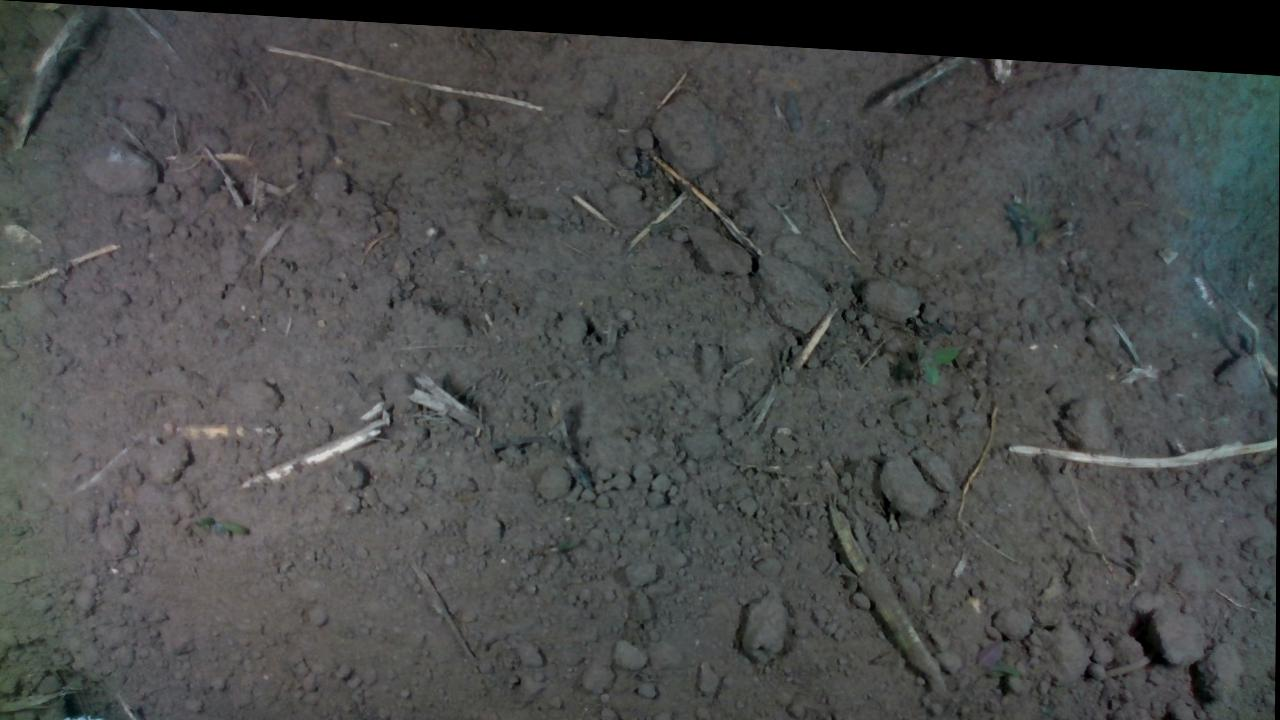weed: (196, 510, 250, 533)
